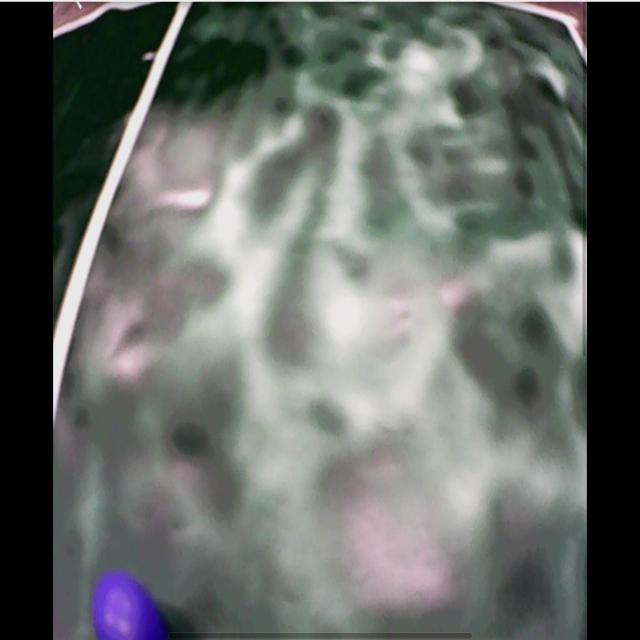ball: (93, 575, 164, 640)
